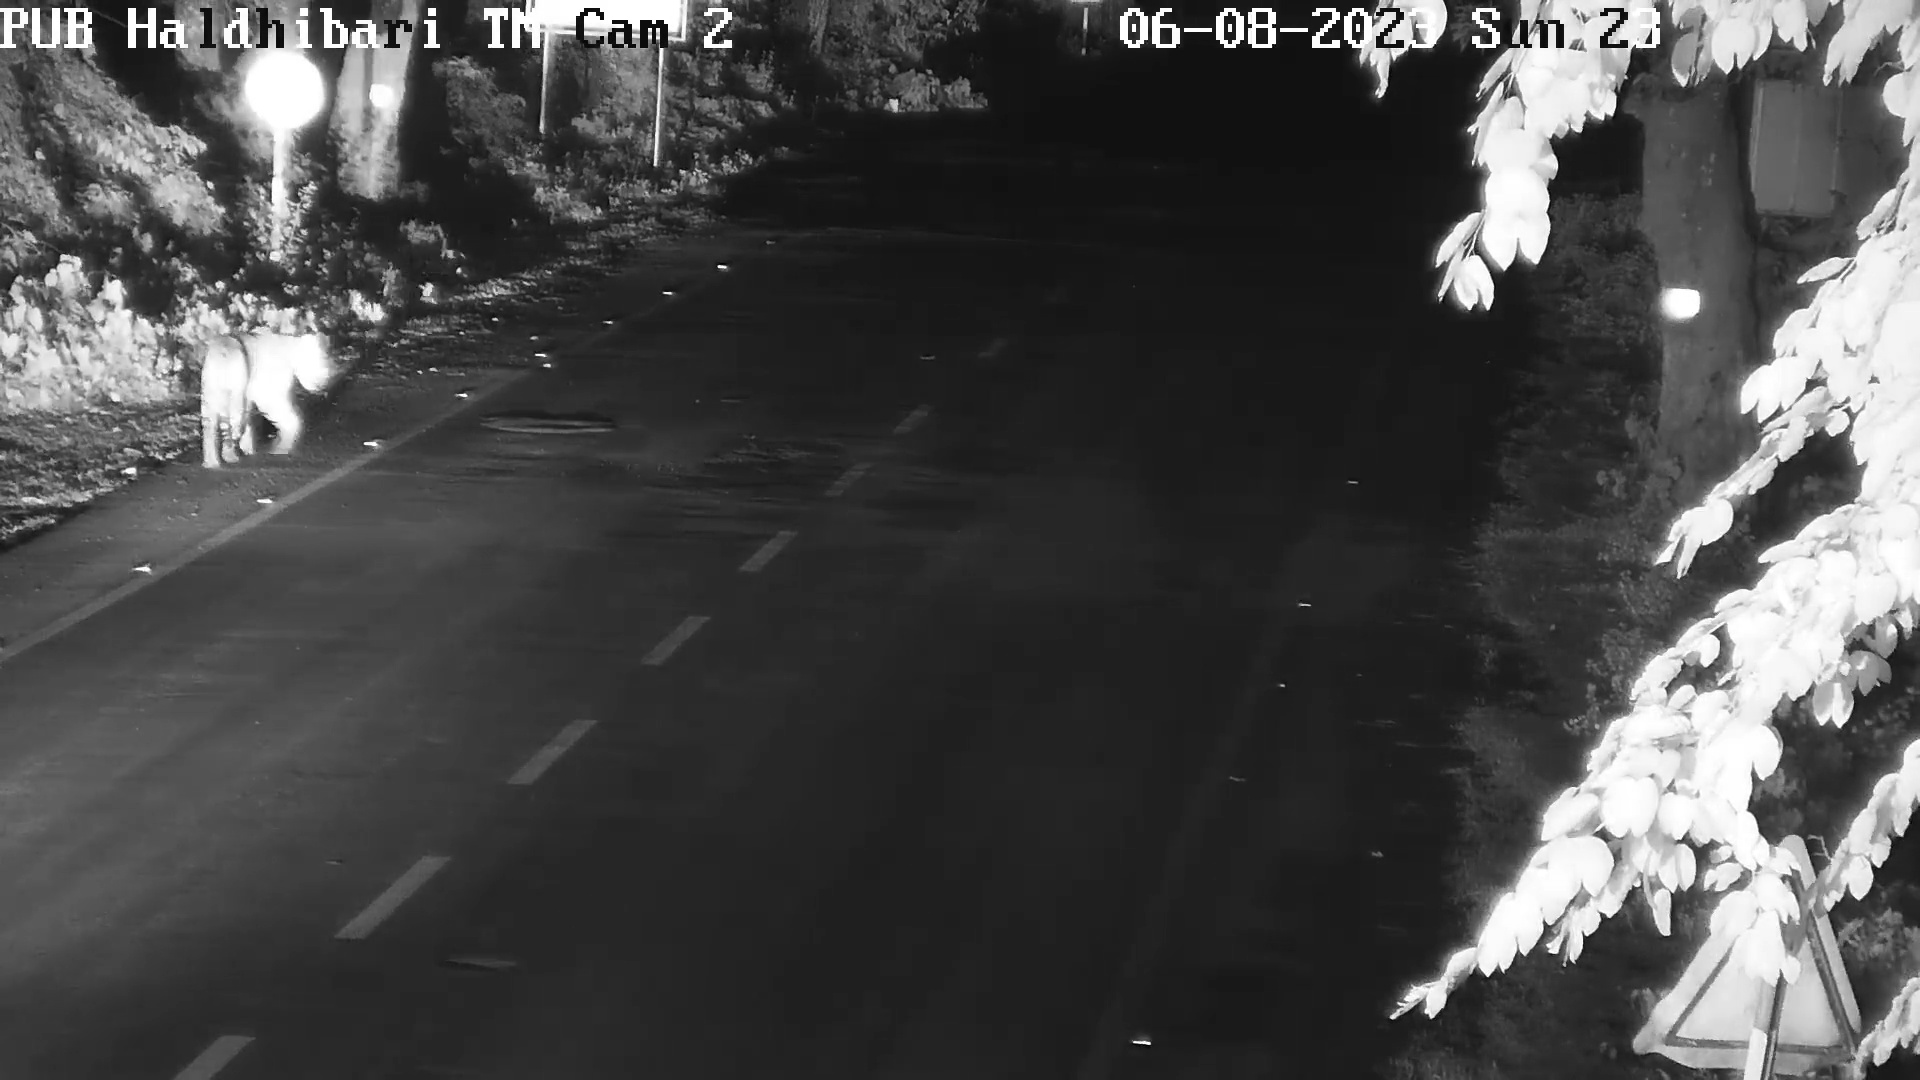tigers: (190, 331, 342, 472)
